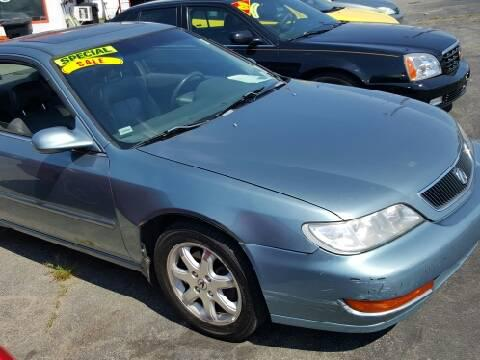acura: (1, 14, 476, 359)
